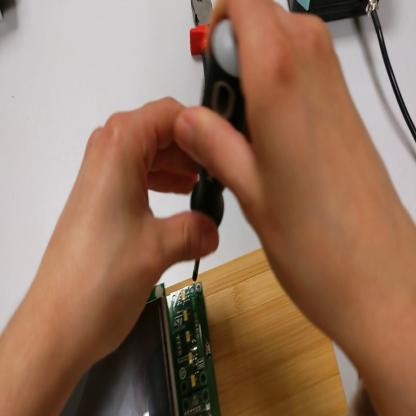hand: (181, 3, 395, 340), (40, 96, 212, 367)
low voltage board: (57, 278, 221, 415)
pliers: (191, 1, 220, 77)
screwdriver-: (189, 22, 254, 285)
welder station: (292, 2, 380, 25)
working area: (166, 249, 350, 414)
